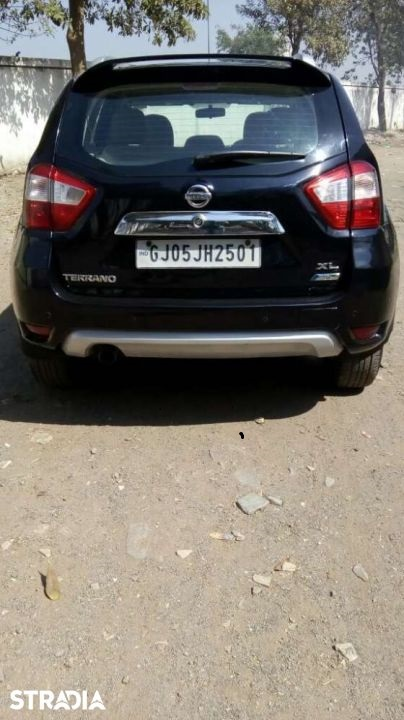GJ05JH2501: (134, 237, 263, 271)
